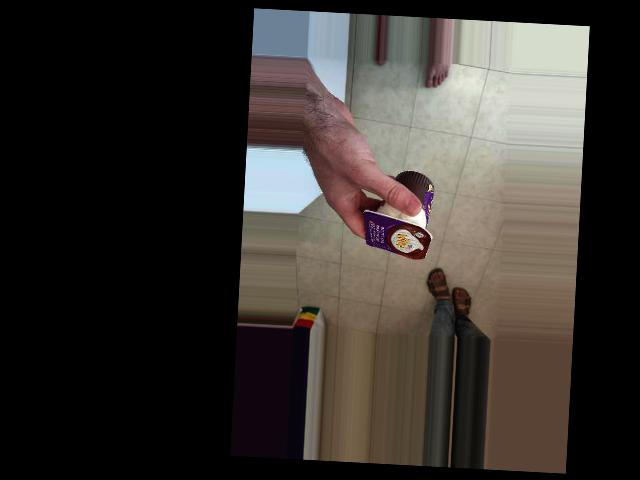milky: (372, 200, 459, 266)
